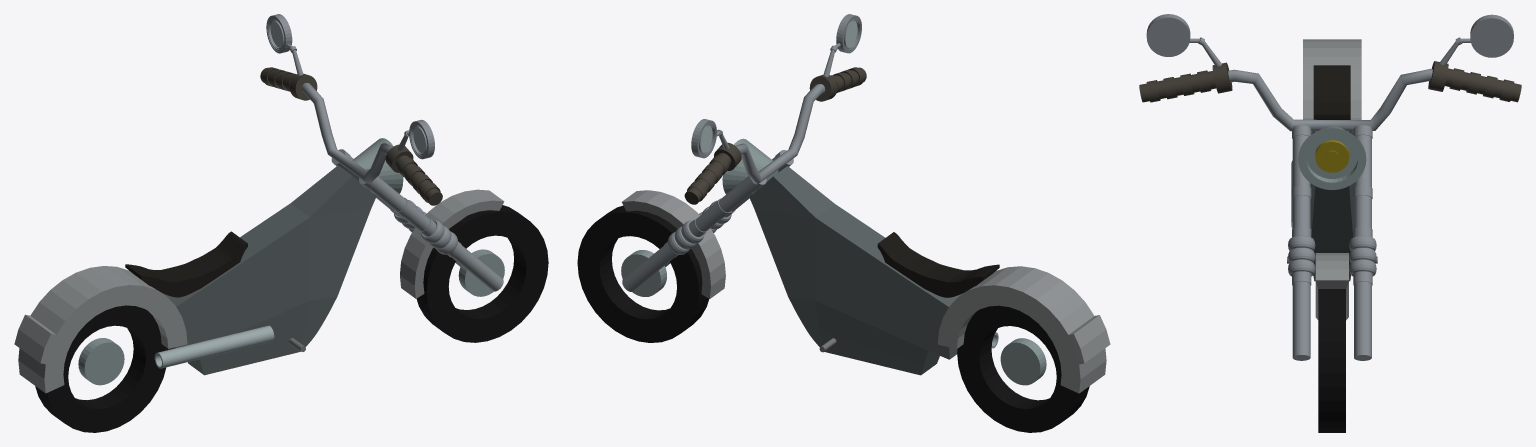
File: bsl_motorbike.gltf
The picture shows the model from 3 angles, left to right: view 1: azimuth 30°, elevation 25°; view 2: azimuth 150°, elevation 25°; view 3: azimuth 270°, elevation 25°; orthographic projection. The views are drawn at different scales.
Visible parts, largest first — view 1: Cube, Cylinder.007, Cylinder.003, Cylinder.002, Cylinder.010, Cube.001, Cylinder.006, Cylinder.009, Cylinder.011, Cylinder.001, Cylinder, Cylinder.005; view 2: Cube, Cylinder.007, Cylinder.003, Cylinder.002, Cylinder.010, Cube.001, Cylinder.006, Cylinder.004, Cylinder.001, Cylinder, Cylinder.005; view 3: Cylinder.010, Cylinder.009, Cylinder.004, Cylinder.003, Cylinder.005, Cube, Cylinder.007, Cube.001, Cylinder.006.
Boxes of the visible parts, box(x1,y1,x2,y2) form: Cube: box(161, 165, 375, 375); Cylinder.007: box(14, 266, 187, 393); Cylinder.003: box(416, 205, 548, 342); Cylinder.002: box(35, 305, 167, 432); Cylinder.010: box(260, 14, 442, 205); Cube.001: box(125, 231, 247, 297); Cylinder.006: box(400, 189, 504, 298); Cylinder.009: box(359, 169, 503, 291); Cylinder.011: box(154, 325, 274, 368); Cylinder.001: box(78, 338, 124, 385); Cylinder: box(458, 249, 504, 296); Cylinder.005: box(347, 138, 403, 193); Cube: box(749, 166, 962, 375); Cylinder.007: box(937, 266, 1110, 393); Cylinder.003: box(577, 205, 708, 342); Cylinder.002: box(957, 305, 1089, 432); Cylinder.010: box(684, 14, 866, 204); Cube.001: box(877, 232, 999, 297); Cylinder.006: box(622, 190, 725, 298); Cylinder.004: box(622, 170, 766, 291); Cylinder.001: box(1000, 338, 1046, 385); Cylinder: box(621, 250, 666, 296); Cylinder.005: box(722, 138, 778, 194); Cylinder.010: box(1139, 14, 1521, 131); Cylinder.009: box(1288, 125, 1315, 360); Cylinder.004: box(1349, 125, 1376, 360); Cylinder.003: box(1318, 289, 1345, 432); Cylinder.005: box(1298, 125, 1366, 189); Cube: box(1310, 131, 1353, 281); Cylinder.007: box(1303, 39, 1361, 119); Cube.001: box(1313, 65, 1350, 119); Cylinder.006: box(1315, 253, 1348, 320).
Bounding box in the file's own units: 2.97 × 1.65 × 1.7.
